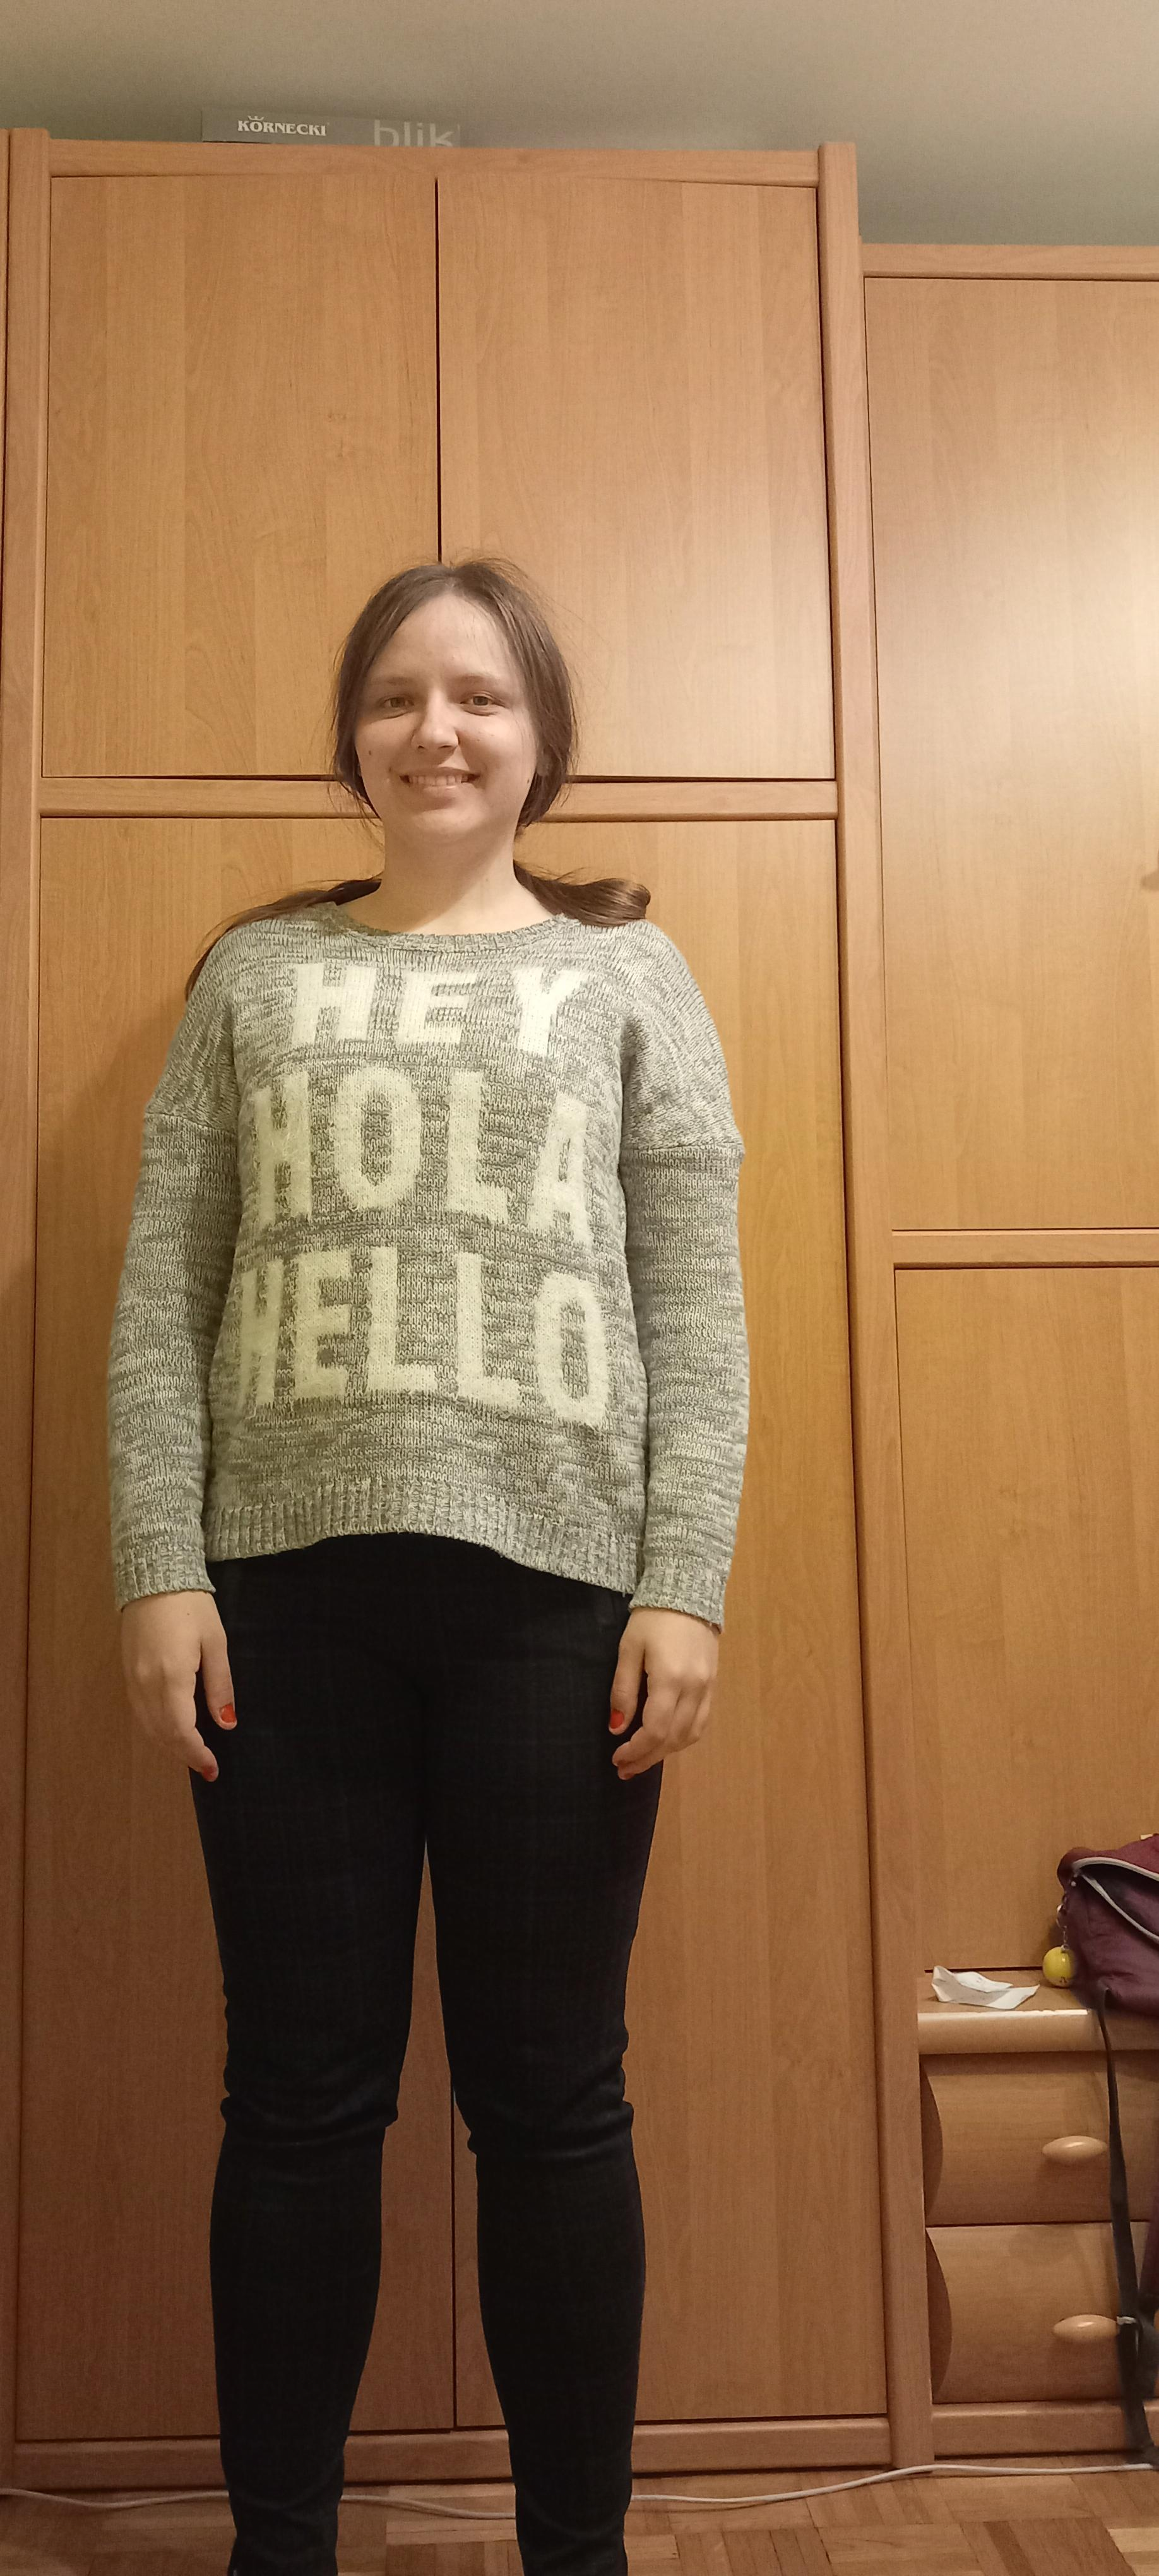pants: (189, 1529, 665, 2576)
sweater: (108, 900, 755, 1633)
